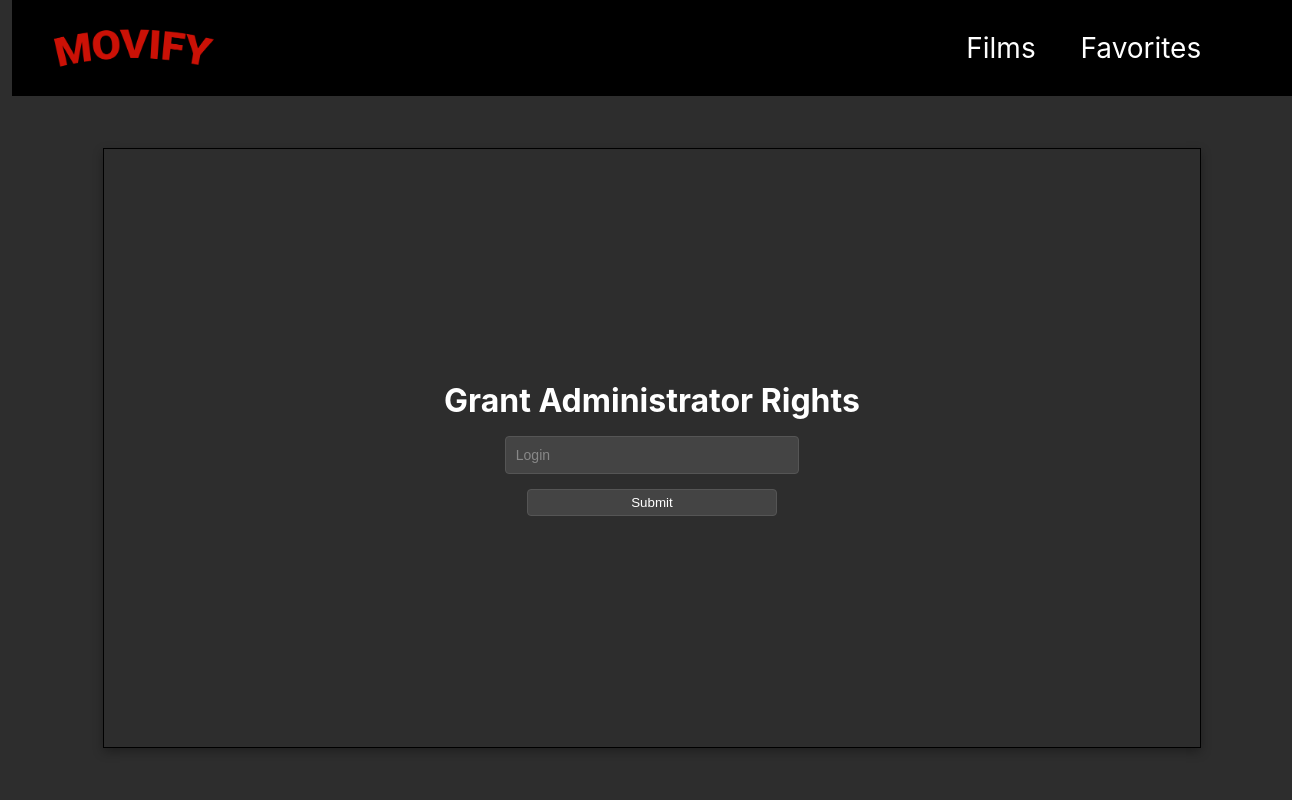
Rights Component › handles successful admin grant and resets the form
The image size is (1292, 800).
Type "testuser" into the field with placeholder "Login". click: (652, 454)
box: [505,436,799,474]
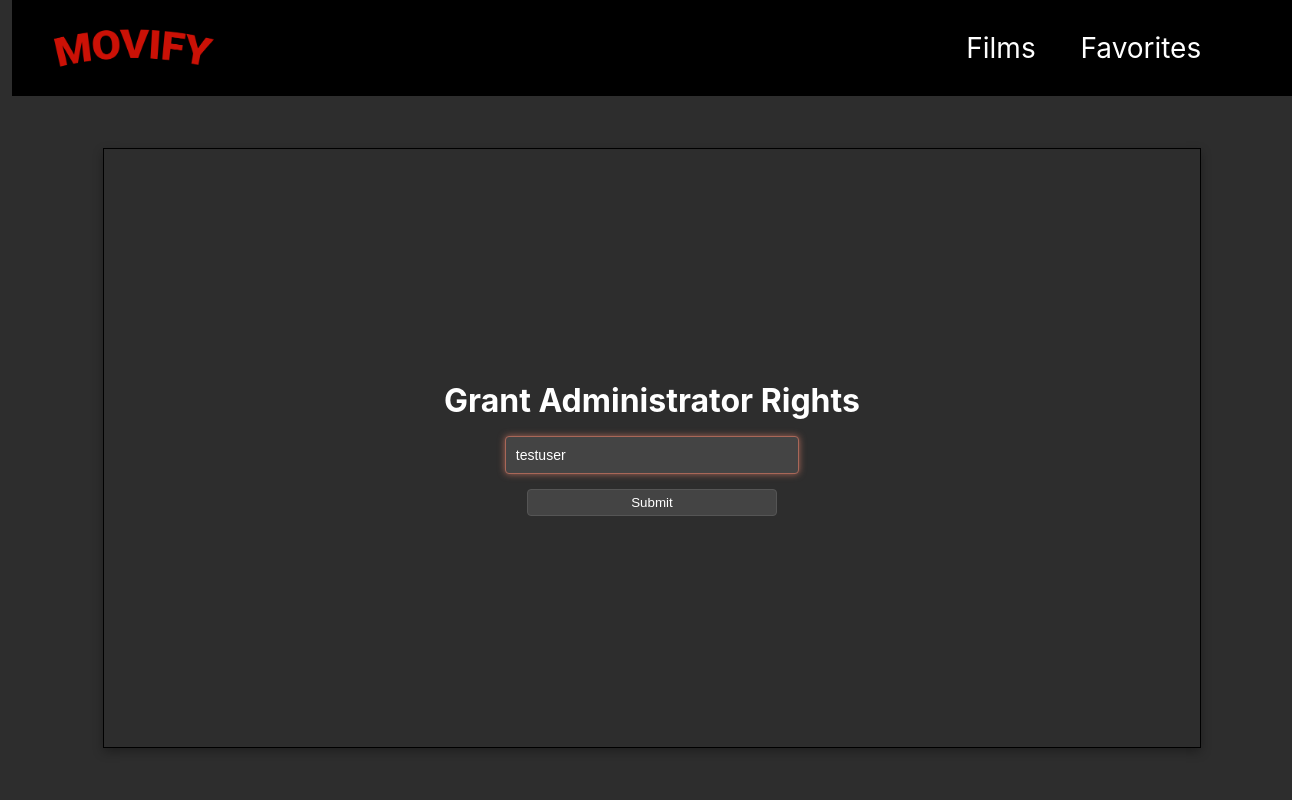
Click the button "Submit". click: click(652, 502)
box: [527,488,777,516]
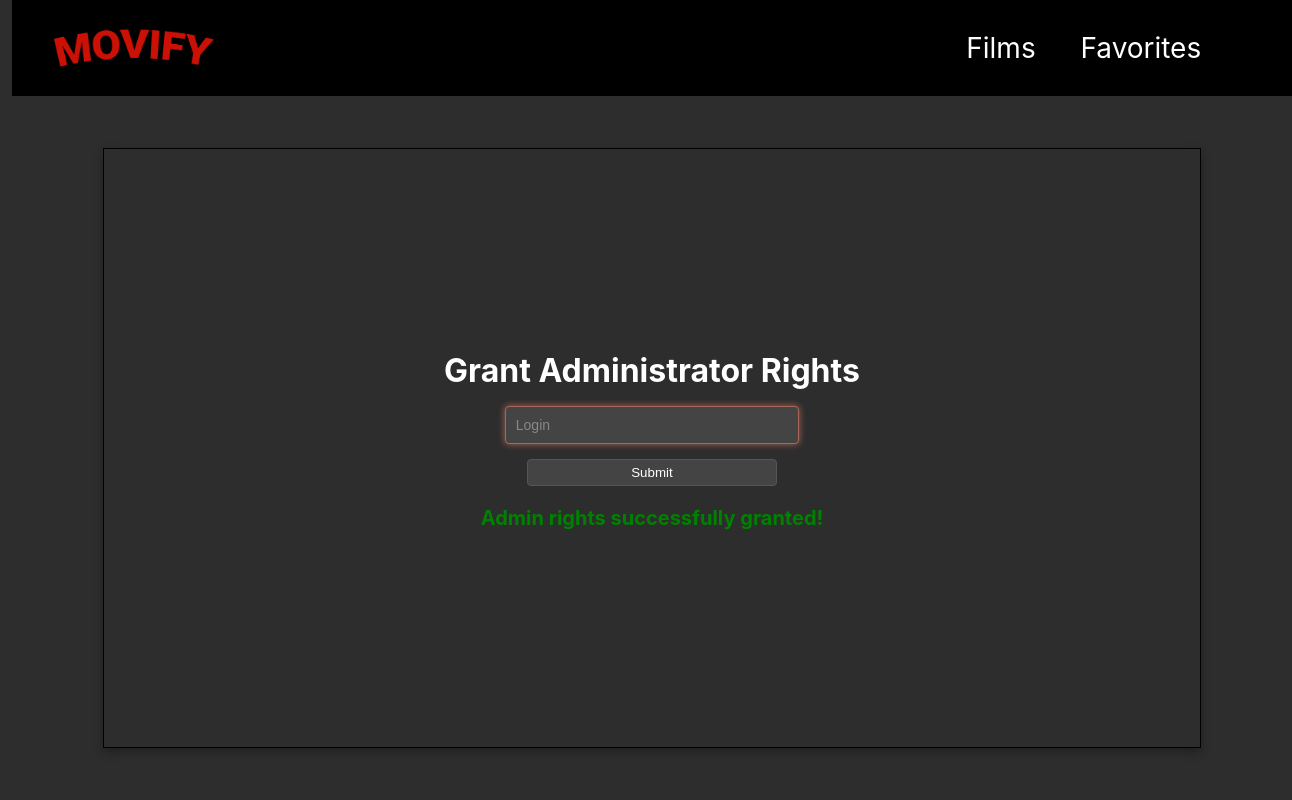
Expected: the text "Admin rights successfully granted!" is shown, [481,506,823,530]
Expected: the field with placeholder "Login" is empty, [505,406,799,444]
